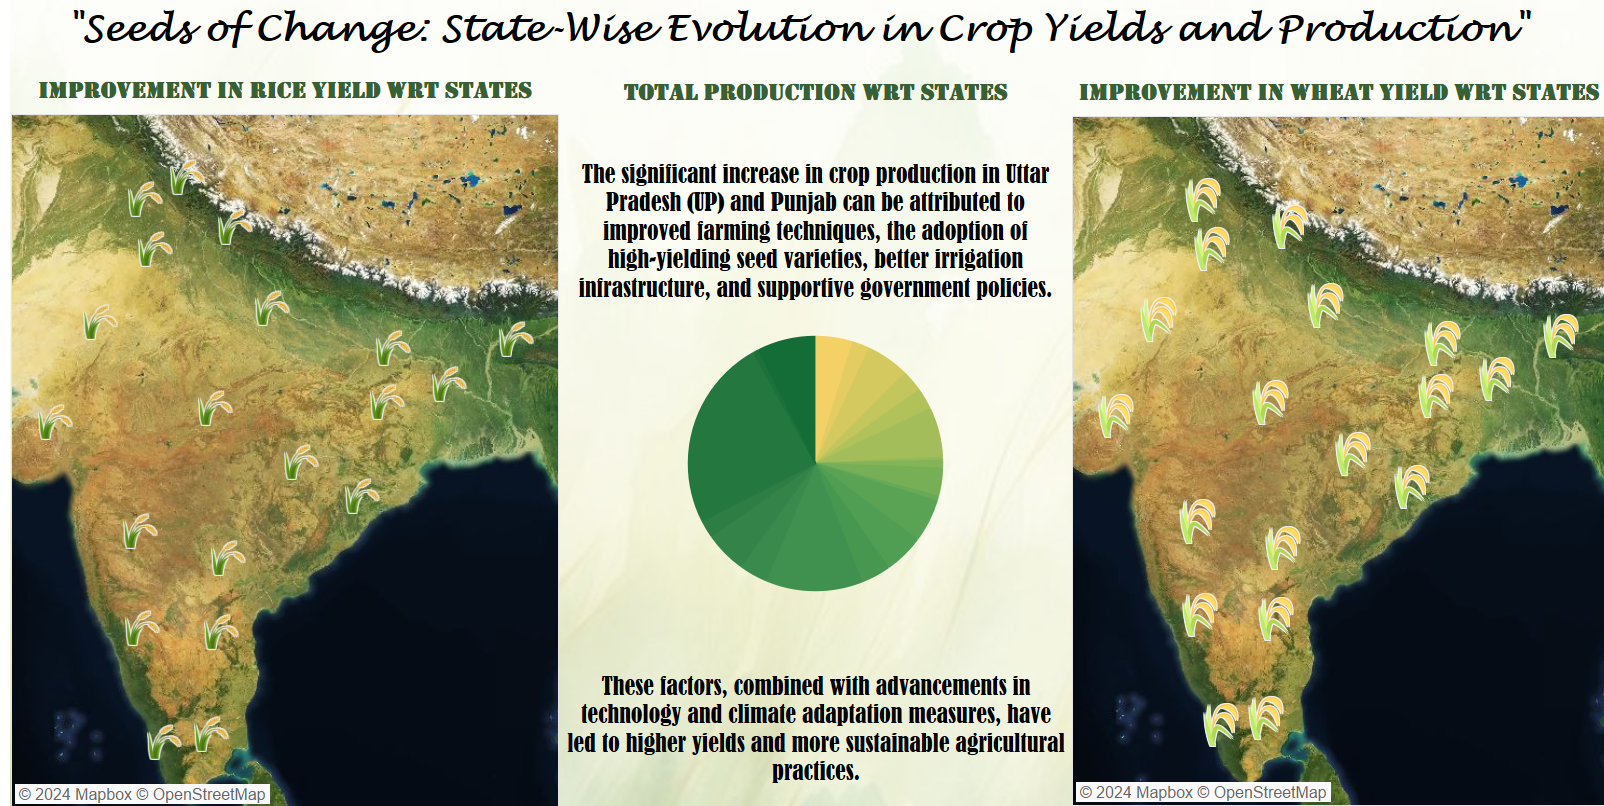

The page's visual inventory and layout, read from the dashboard file:
{"tool":"tableau","page":{"name":"4","canvas":[1000,1000],"units":"permille","ordinal":3},"visuals":[{"type":"text","box":[3.6,0,988,73.2]},{"type":"worksheet","title":"Sheet 3","mark":"Shape","box":[6.6,86.9,341.9,915.6]},{"type":"worksheet","title":"Sheet 6","mark":"Shape","box":[668.3,89.3,332.9,910.7]},{"type":"text","box":[347.3,166.2,322.3,243.2]},{"type":"text","box":[349.8,810.2,318,189.8]}]}

Visuals, with their boxes on the dashboard's canvas, which has no fixed pixel size, in thousandths of its width and height (x1, y1, x2, y2). These are canvas units, not pixel positions in the 1604x806 screenshot, which may show the page scaled, cropped or inside an application window:
text: {"x1": 4, "y1": 0, "x2": 992, "y2": 73}
"Sheet 3" worksheet (Shape marks): {"x1": 7, "y1": 87, "x2": 348, "y2": 1002}
"Sheet 6" worksheet (Shape marks): {"x1": 668, "y1": 89, "x2": 1001, "y2": 1000}
text: {"x1": 347, "y1": 166, "x2": 670, "y2": 409}
text: {"x1": 350, "y1": 810, "x2": 668, "y2": 1000}
